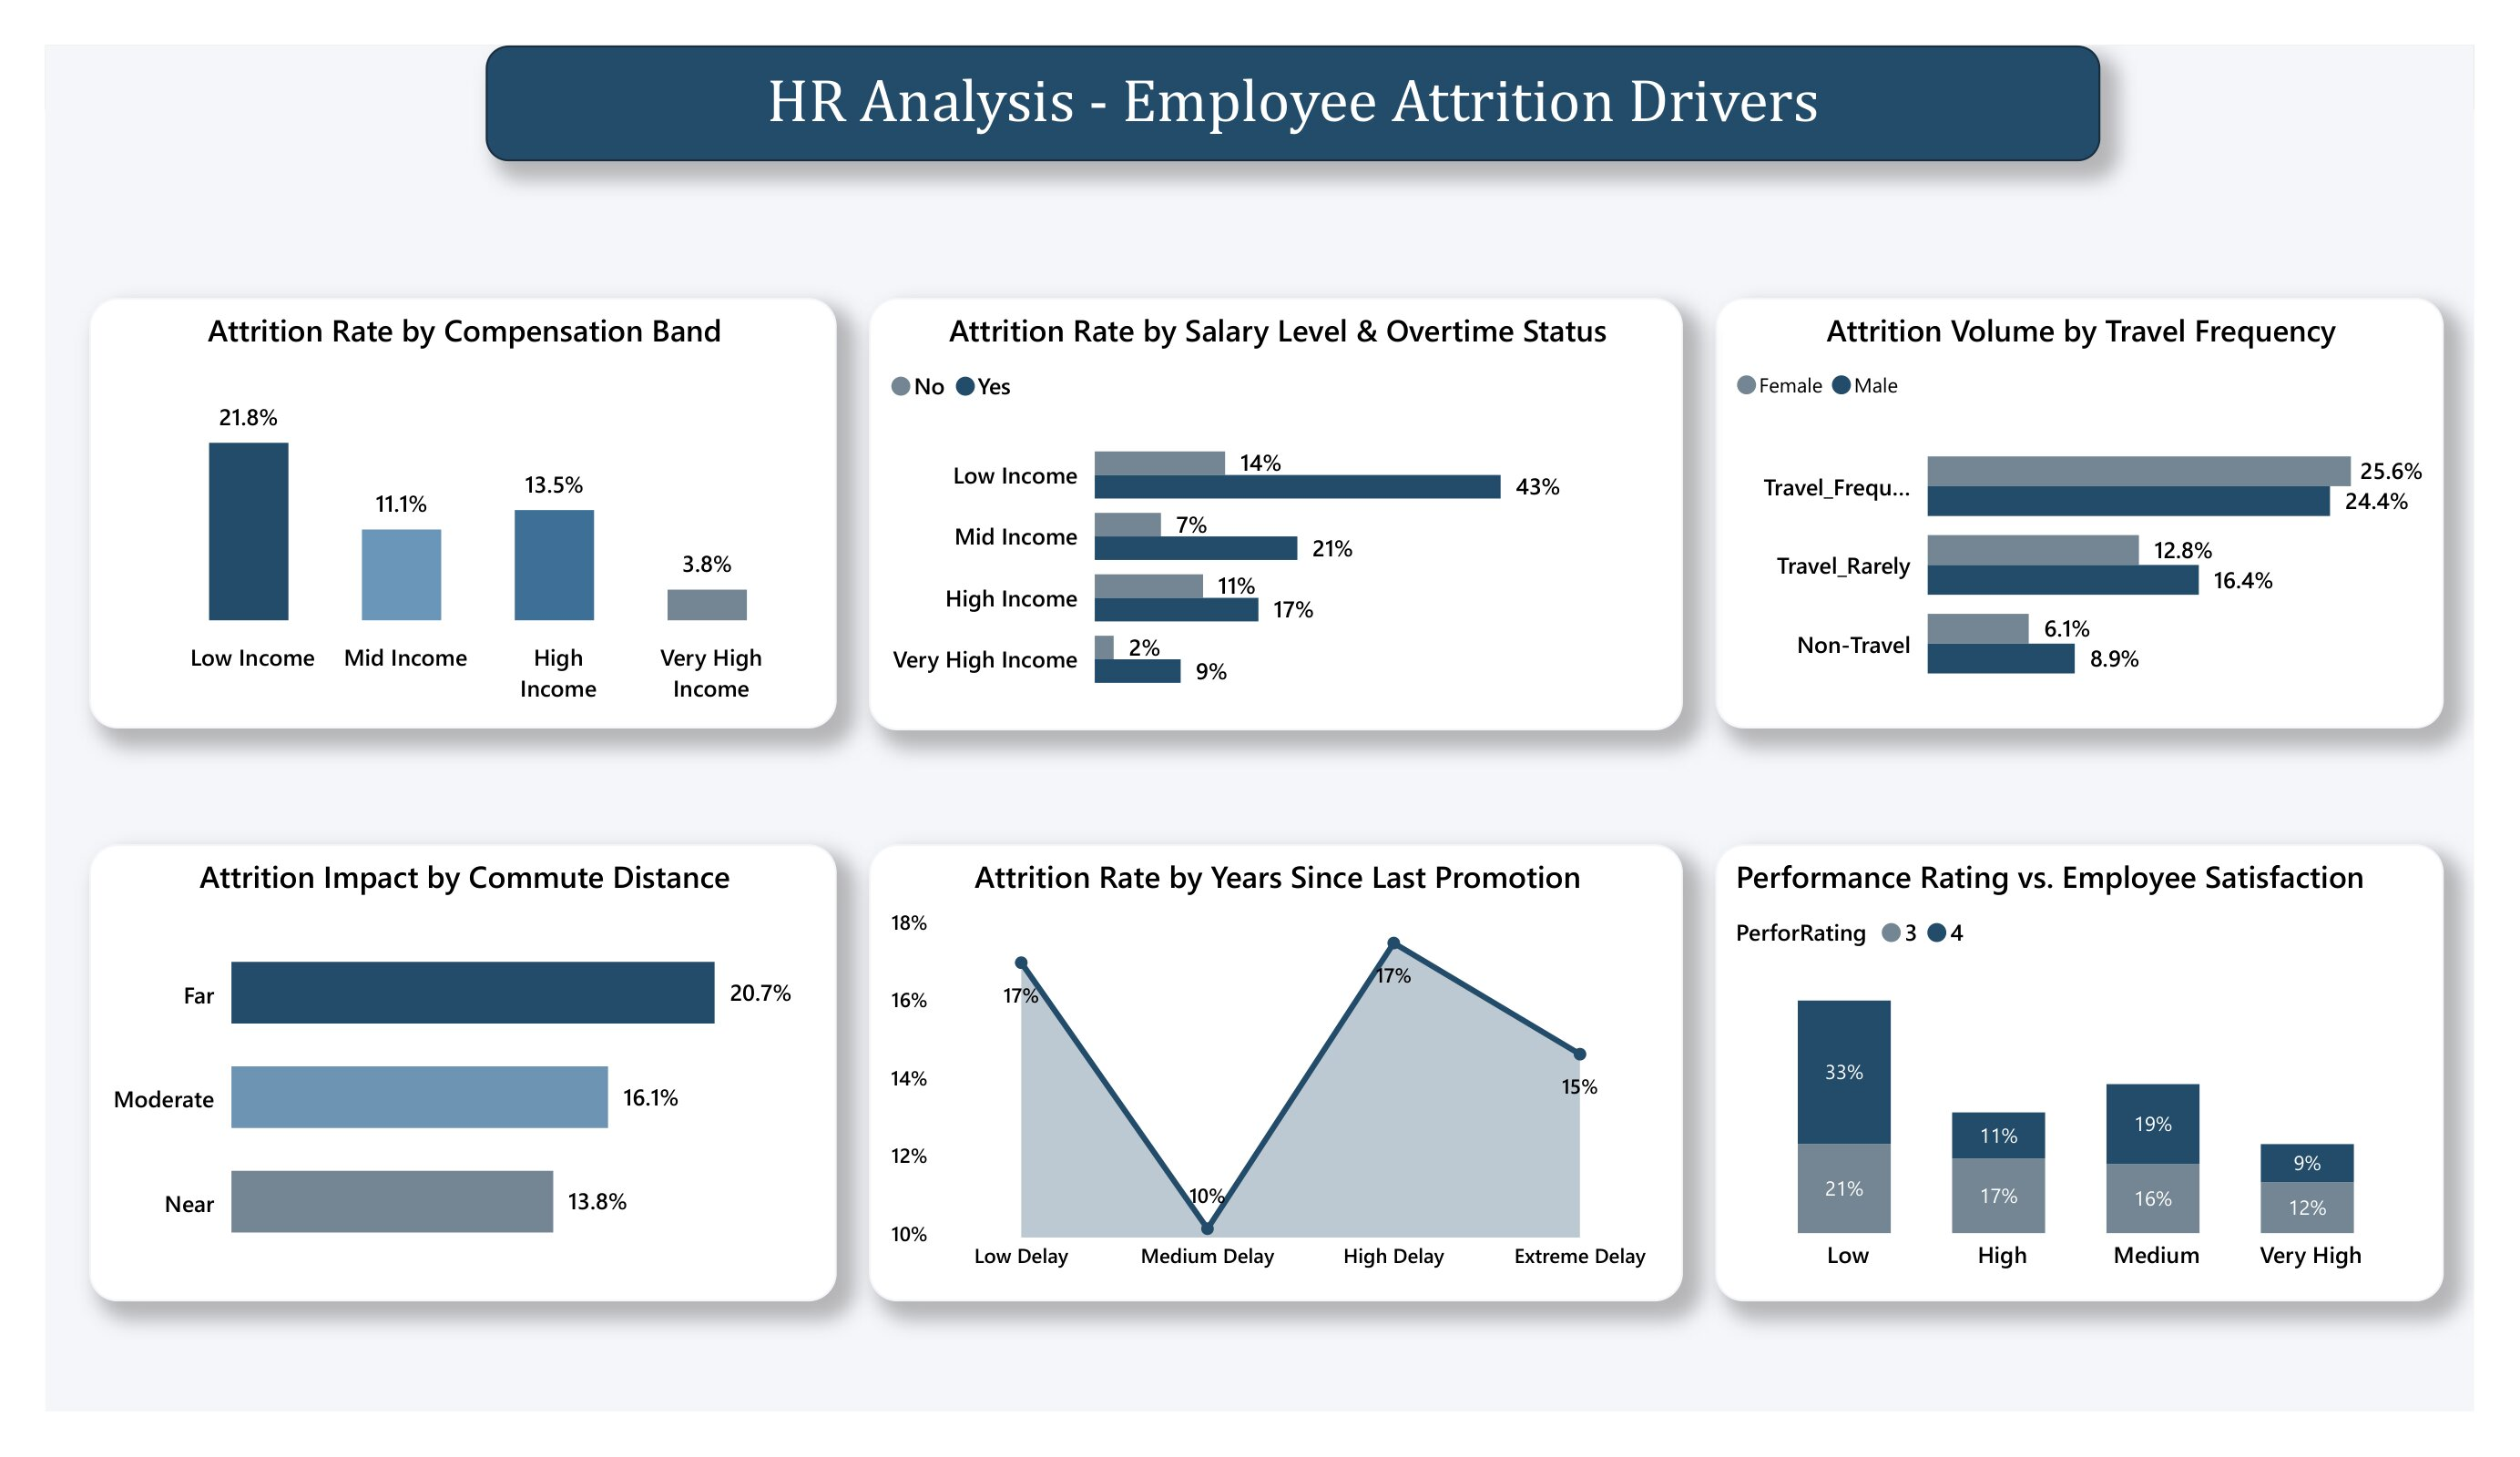

The dashboard page shown, as its layout file describes it:
{"tool":"powerbi","page":{"name":" Attrition drivers","canvas":[1280,720],"ordinal":1},"visuals":[{"type":"textbox","box":[232.4,0,850.4,60.9],"z":0},{"type":"barChart","title":"Attrition Impact by Commute Distance","fields":{"Category":["employee_attrition.Distance Group"],"Y":["employee_attrition.Attrition Rate %"]},"box":[22.7,420.9,394,240.9],"z":1000},{"type":"clusteredBarChart","title":"Attrition Volume by Travel Frequency","fields":{"Category":["employee_attrition.BusinessTravel"],"Y":["employee_attrition.Attrition Rate %"],"Series":["employee_attrition.Gender"]},"box":[880.2,133.2,384.1,226.8],"z":2000},{"type":"columnChart","title":"Attrition Rate by Compensation Band","fields":{"Category":["employee_attrition.Salary Group Clean"],"Y":["employee_attrition.Attrition Rate %"]},"box":[23,133,394,227],"z":3000},{"type":"clusteredBarChart","title":"Attrition Rate by Salary Level & Overtime Status","fields":{"Y":["employee_attrition.Attrition Rate %"],"Series":["employee_attrition.OverTime"],"Category":["employee_attrition.Salary Group Clean"]},"box":[433.9,133.2,429.4,228.2],"z":4000},{"type":"lineChart","title":"Attrition Rate  by Years Since Last Promotion","fields":{"Category":["employee_attrition.Promotion Group"],"Y":["employee_attrition.Attrition Rate %"]},"box":[433.7,420.9,429.4,240.9],"z":5000},{"type":"columnChart","title":"Performance Rating vs. Employee Satisfaction","fields":{"Category":["employee_attrition.Satisfaction Level"],"Series":["employee_attrition.PerformanceRating"],"Y":["employee_attrition.Attrition Rate %"]},"box":[880.2,420.9,384.1,240.9],"z":6000}]}

Visuals, with their boxes on the page's 1280x720 design canvas (x1, y1, x2, y2). These are canvas units, not pixel positions in the 2520x1457 screenshot, which may show the page scaled, cropped or inside an application window:
textbox: [232, 0, 1083, 61]
"Attrition Impact by Commute Distance" barChart: [23, 421, 417, 662]
"Attrition Volume by Travel Frequency" clusteredBarChart: [880, 133, 1264, 360]
"Attrition Rate by Compensation Band" columnChart: [23, 133, 417, 360]
"Attrition Rate by Salary Level & Overtime Status" clusteredBarChart: [434, 133, 863, 361]
"Attrition Rate  by Years Since Last Promotion" lineChart: [434, 421, 863, 662]
"Performance Rating vs. Employee Satisfaction" columnChart: [880, 421, 1264, 662]
